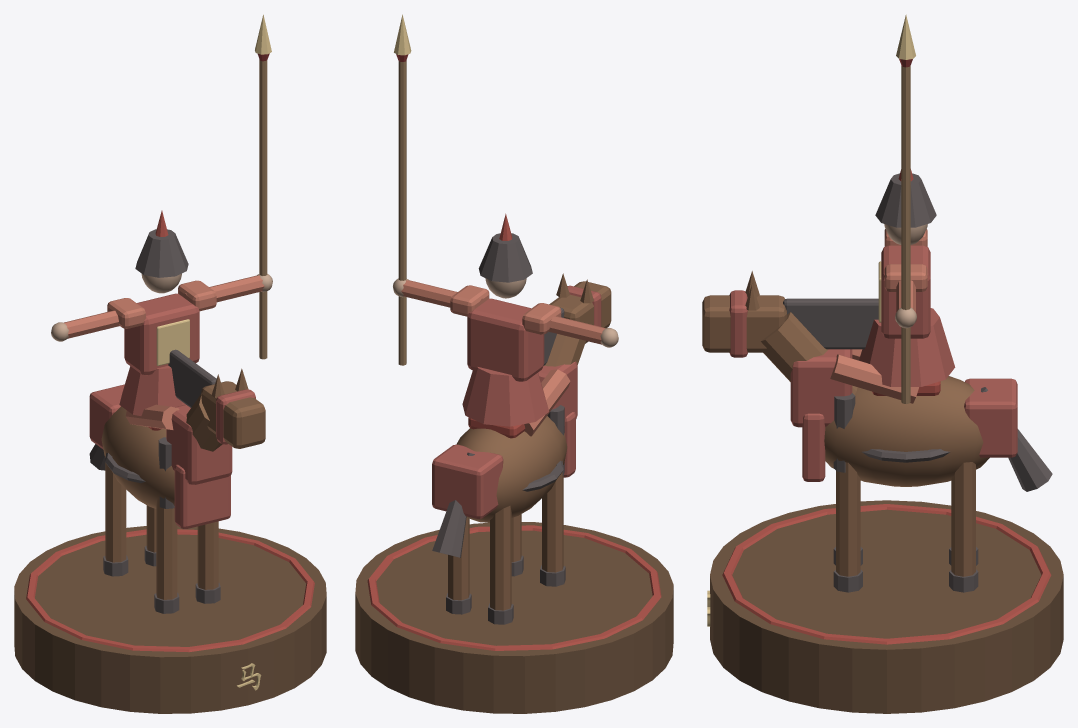
Rendered from horse_red.glb.
3 views of the same model, side by side, from view 1: azimuth 30°, elevation 25°; view 2: azimuth 150°, elevation 25°; view 3: azimuth 270°, elevation 25° (orthographic). The views are drawn at different scales.
Parts seen in each view (by area): view 1: base, h_body, base_trim_top, h_rider_cuirass, h_armor_neck, h_armor_chest, h_head, h_spear, h_rider_skirt, h_leg_-0.07_-0.15, h_leg_-0.07_0.15, h_rider_kui (+13 smaller); view 2: base, h_body, h_rider_cuirass, h_armor_rump, base_trim_top, h_rider_skirt, h_spear, h_leg_-0.07_0.15, h_rider_kui, h_leg_-0.07_-0.15, h_head, h_tail (+10 smaller); view 3: base, h_body, base_trim_top, h_rider_skirt, h_mane, h_armor_rump, h_head, h_spear, h_armor_neck, h_leg_0.07_0.15, h_leg_0.07_-0.15, h_rider_cuirass (+9 smaller).
Part boxes in pixels (x1,y1,x2,y2): base: (14,525,326,713); h_body: (101,406,174,508); base_trim_top: (26,529,314,652); h_rider_cuirass: (124,293,199,375); h_armor_neck: (166,404,232,484); h_armor_chest: (174,464,230,528); h_head: (201,381,265,448); h_spear: (259,59,267,359); h_rider_skirt: (119,365,185,415); h_leg_-0.07_-0.15: (156,497,177,599); h_leg_-0.07_0.15: (105,462,126,562); h_rider_kui: (135,229,188,277); base: (355,522,673,713); h_body: (456,416,567,522); h_rider_cuirass: (467,298,544,381); h_armor_rump: (432,444,503,518); base_trim_top: (367,525,661,650); h_rider_skirt: (462,367,548,426); h_spear: (398,60,406,365); h_leg_-0.07_0.15: (490,505,511,610); h_rider_kui: (478,233,532,282); h_leg_-0.07_-0.15: (542,472,563,572); h_head: (549,281,611,343); h_tail: (432,452,474,557); base: (710,500,1063,713); h_body: (824,376,989,486); base_trim_top: (722,504,1051,644); h_rider_skirt: (859,308,955,386); h_mane: (783,298,878,349); h_armor_rump: (964,378,1017,457); h_head: (702,295,786,352); h_spear: (901,66,910,403); h_armor_neck: (790,349,852,427); h_leg_0.07_0.15: (951,462,975,576); h_leg_0.07_-0.15: (836,462,860,576); h_rider_cuirass: (881,245,930,338).
Size of the model in its own units: 0.92 by 1.95 by 0.94.
